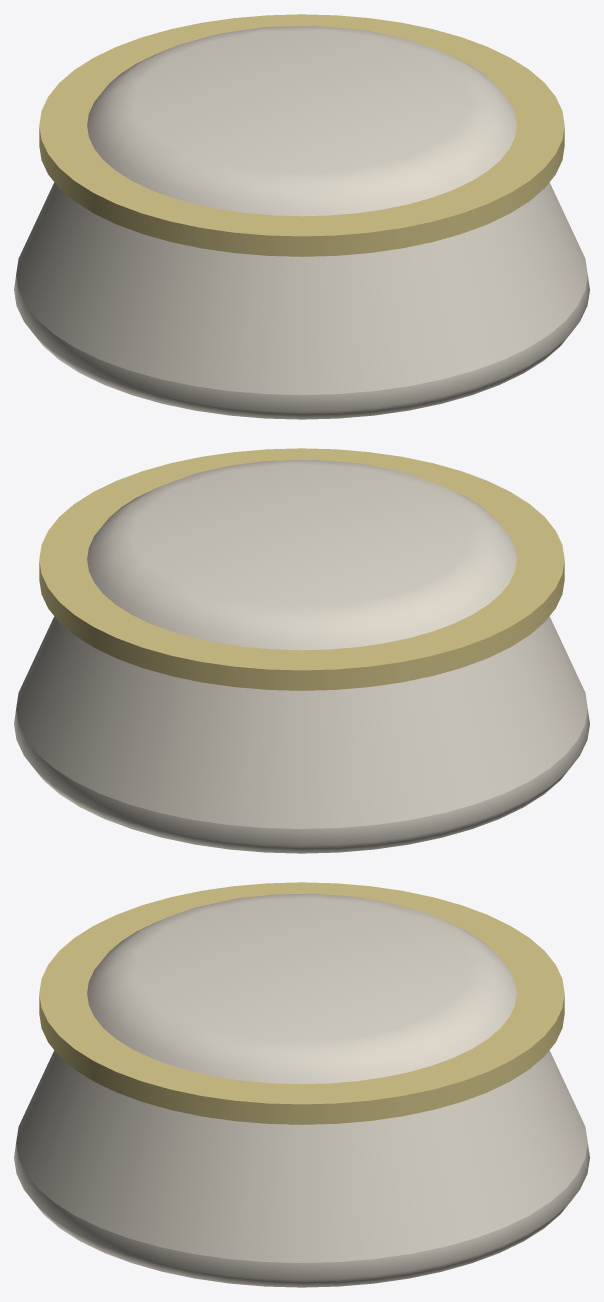
The model's file is to_bo_trung.glb.
3 renders of one model, top to bottom at view 1: azimuth 30°, elevation 25°; view 2: azimuth 150°, elevation 25°; view 3: azimuth 270°, elevation 25°, orthographic.
Parts seen in each view (by area): view 1: to_bo_trung; view 2: to_bo_trung; view 3: to_bo_trung.
Boxes of the visible parts, x1=… form: to_bo_trung: x1=14, y1=14, x2=589, y2=419; to_bo_trung: x1=14, y1=448, x2=589, y2=853; to_bo_trung: x1=14, y1=882, x2=589, y2=1287.
Size of the model in its own units: 0.1535 by 0.06 by 0.1535.
